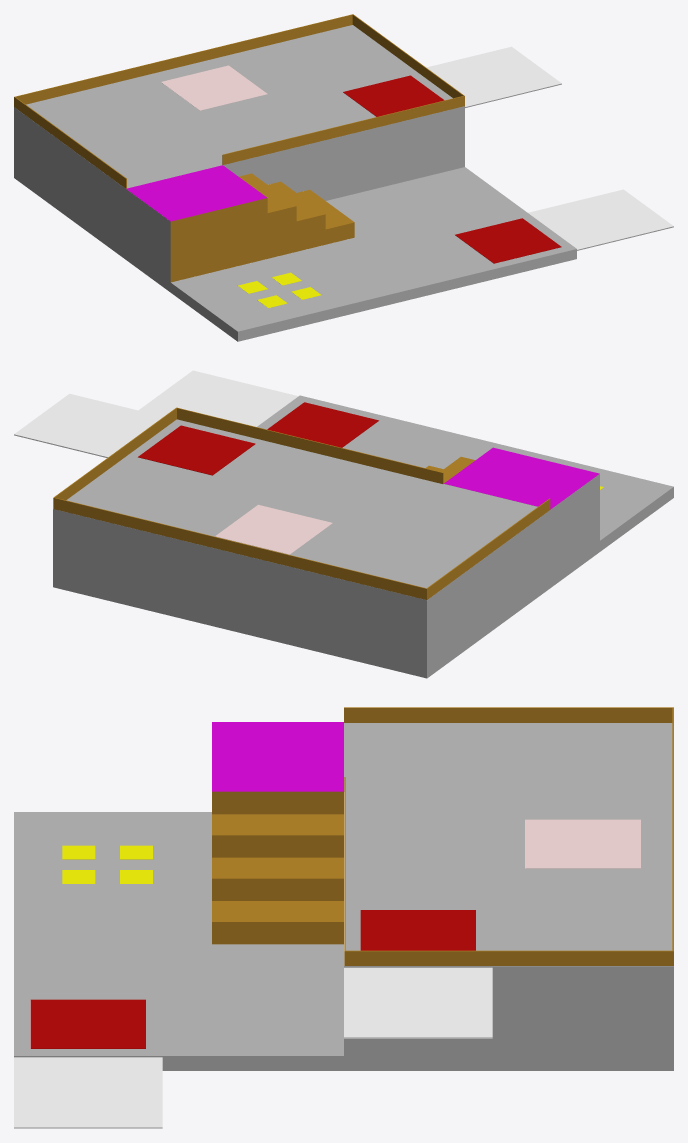
Rendered from test_field_on_scale.glb.
The picture shows the model from 3 angles, top to bottom: view 1: azimuth 30°, elevation 25°; view 2: azimuth 150°, elevation 25°; view 3: azimuth 270°, elevation 25°; orthographic projection. The views are drawn at different scales.
Visible parts, largest first — view 1: Test Field On Scale.SLDPRT; view 2: Test Field On Scale.SLDPRT; view 3: Test Field On Scale.SLDPRT.
Boxes of the visible parts, box(x1,y1,x2,y2) form: Test Field On Scale.SLDPRT: box(14, 14, 673, 341); Test Field On Scale.SLDPRT: box(14, 370, 673, 678); Test Field On Scale.SLDPRT: box(14, 707, 673, 1128).
Bounding box in the file's own units: 4.5 × 0.8001 × 4.
